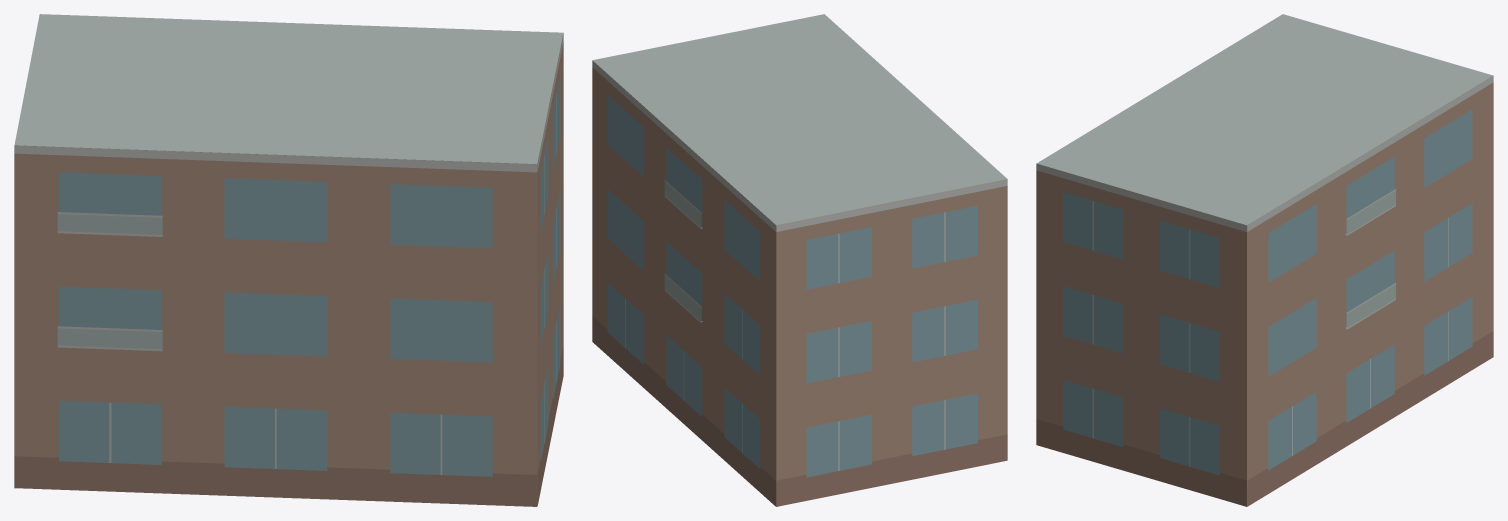
The model's file is survey-upis-32707471.glb.
The picture shows the model from 3 angles, left to right: view 1: azimuth 30°, elevation 25°; view 2: azimuth 150°, elevation 25°; view 3: azimuth 270°, elevation 25°; orthographic projection. The views are drawn at different scales.
Visible parts, largest first — view 1: survey-upis-32707471.tmp; view 2: survey-upis-32707471.tmp; view 3: survey-upis-32707471.tmp.
Boxes of the visible parts, left/top/right/bottom form: survey-upis-32707471.tmp: left=14, top=14, right=563, bottom=506; survey-upis-32707471.tmp: left=592, top=14, right=1007, bottom=506; survey-upis-32707471.tmp: left=1036, top=14, right=1493, bottom=506.
Size of the model in its own units: 16.27 by 10.1 by 14.87.
